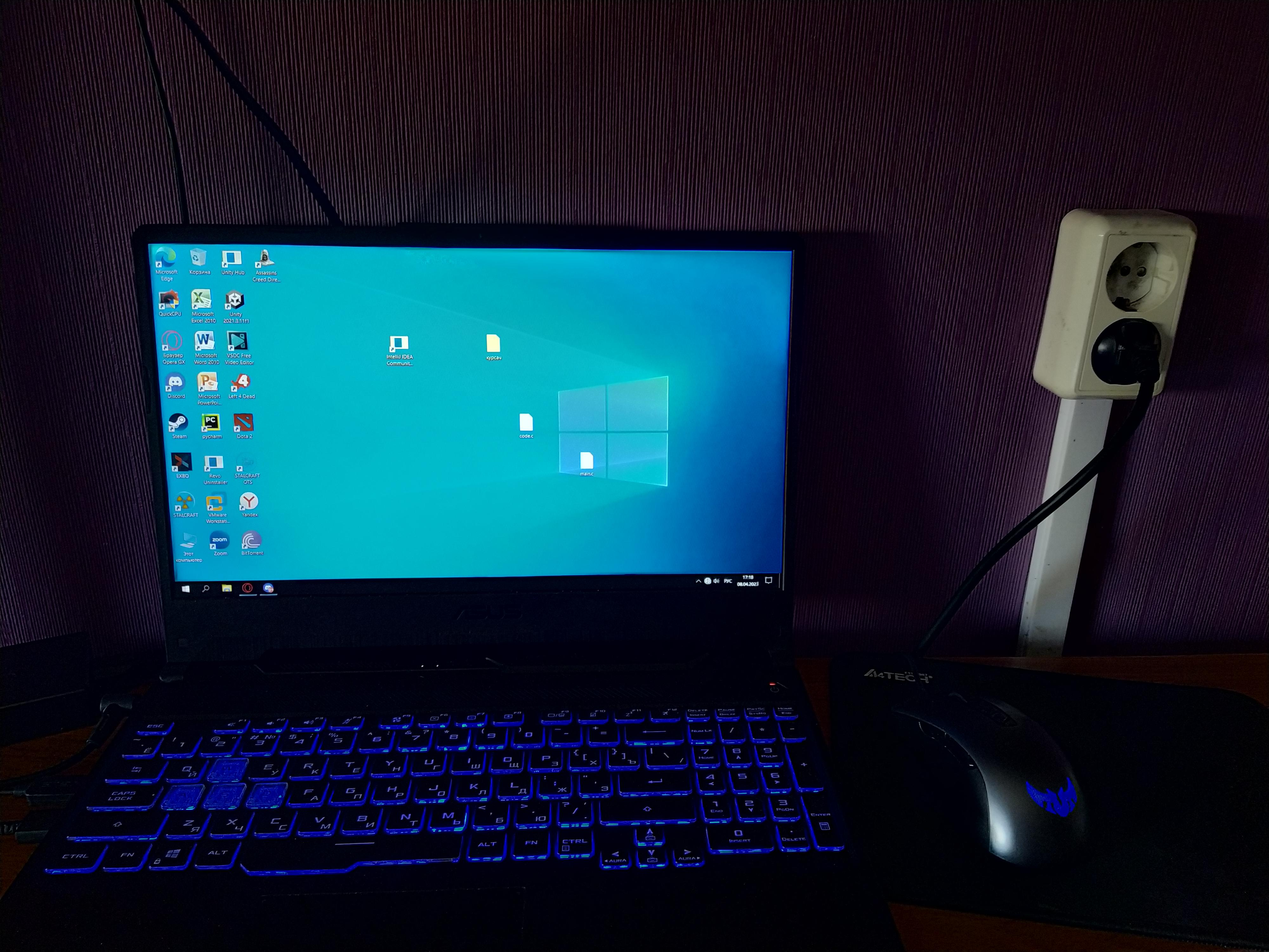monitor: (130, 216, 814, 633)
